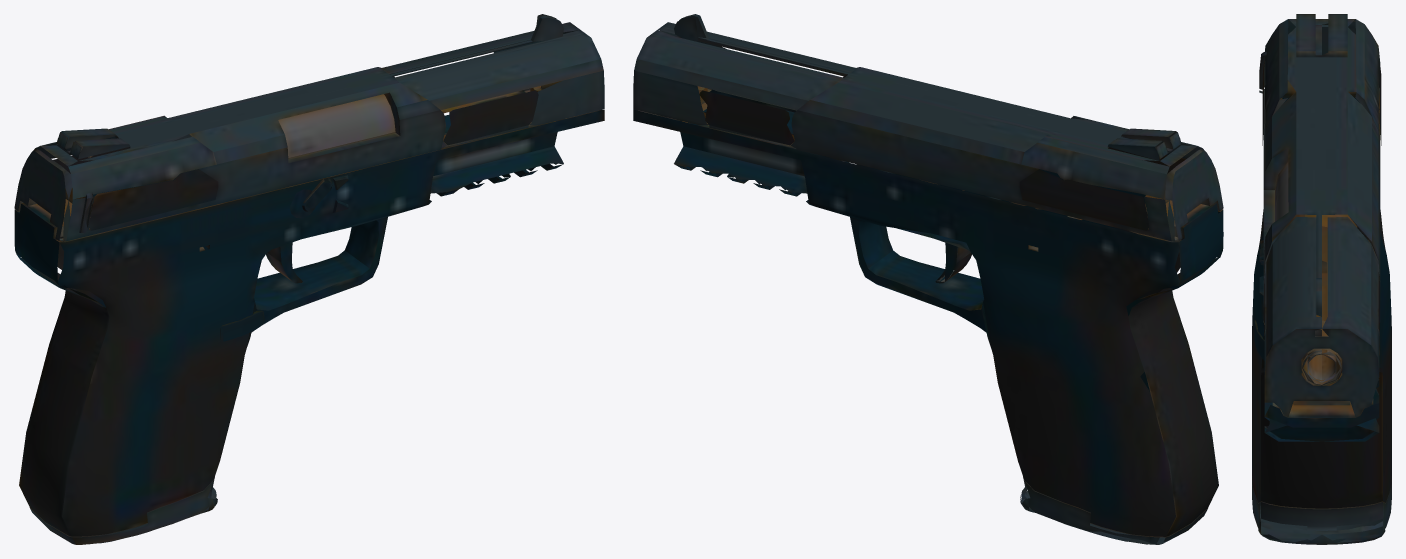
File: g_fiveseven_lo.glb
3 views of the same model, side by side, from view 1: azimuth 30°, elevation 25°; view 2: azimuth 150°, elevation 25°; view 3: azimuth 270°, elevation 25° (orthographic). The views are drawn at different scales.
Visible parts, largest first — view 1: merged; view 2: merged; view 3: merged.
Part boxes in pixels (<box>): merged: <box>14,14,604,544</box>; merged: <box>633,14,1223,544</box>; merged: <box>1252,14,1391,544</box>.
Size of the model in its own units: 116 by 79.76 by 21.33.
Materials: 1 (1 with a texture image).
